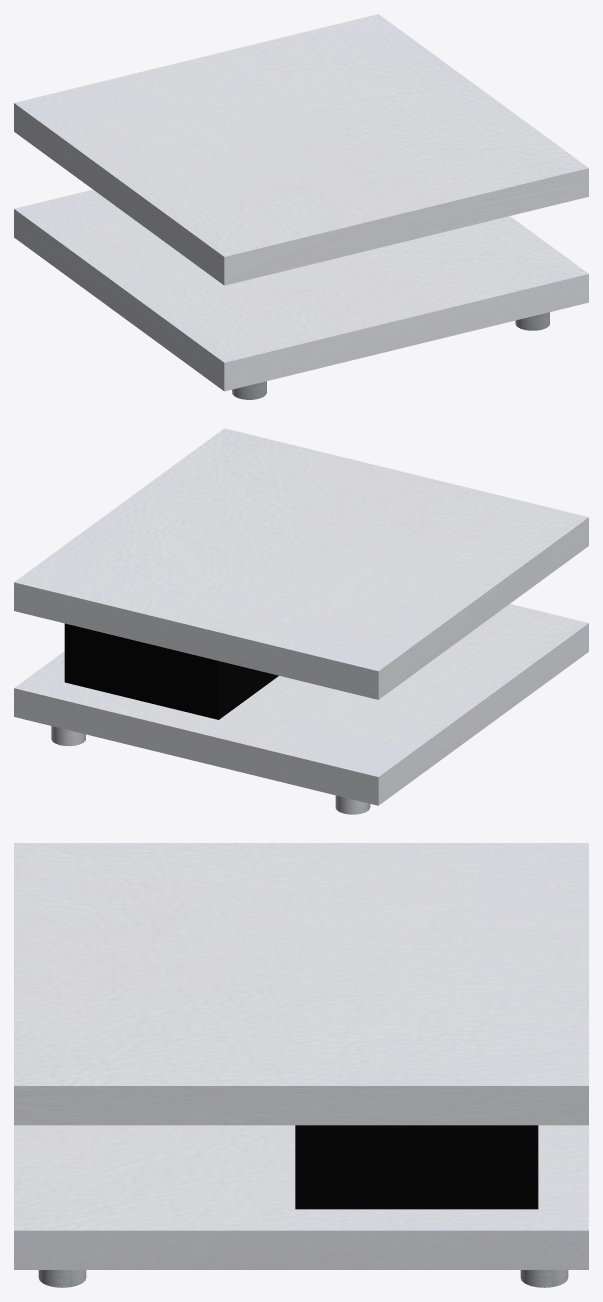
The model's file is mesa.obj.
The picture shows the model from 3 angles, top to bottom: view 1: azimuth 30°, elevation 25°; view 2: azimuth 150°, elevation 25°; view 3: azimuth 270°, elevation 25°; orthographic projection. The views are drawn at different scales.
Visible parts, largest first — view 1: pasted__pCube1group3, table_pCube1; view 2: pasted__pCube1group3, table_pCube1, table_pCube2, pasted__pasted__pCylinder1pasted__groupgroup1, pasted__pCylinder1group2; view 3: pasted__pCube1group3, table_pCube1, table_pCube2, pasted__pasted__pCylinder1pasted__groupgroup1, pasted__pCylinder1group.
Boxes of the visible parts, bbox=[...] form: pasted__pCube1group3: bbox=[14, 14, 588, 285]; table_pCube1: bbox=[14, 189, 588, 391]; pasted__pCube1group3: bbox=[14, 428, 588, 699]; table_pCube1: bbox=[14, 604, 588, 805]; table_pCube2: bbox=[64, 623, 278, 719]; pasted__pasted__pCylinder1pasted__groupgroup1: bbox=[51, 726, 85, 746]; pasted__pCylinder1group2: bbox=[335, 795, 370, 814]; pasted__pCube1group3: bbox=[14, 843, 588, 1125]; table_pCube1: bbox=[14, 1125, 588, 1269]; table_pCube2: bbox=[295, 1125, 538, 1209]; pasted__pasted__pCylinder1pasted__groupgroup1: bbox=[520, 1270, 568, 1287]; pasted__pCylinder1group: bbox=[38, 1270, 86, 1287].
Size of the model in its own units: 2.21 by 0.9231 by 2.21.
3 materials, 3 textured.
